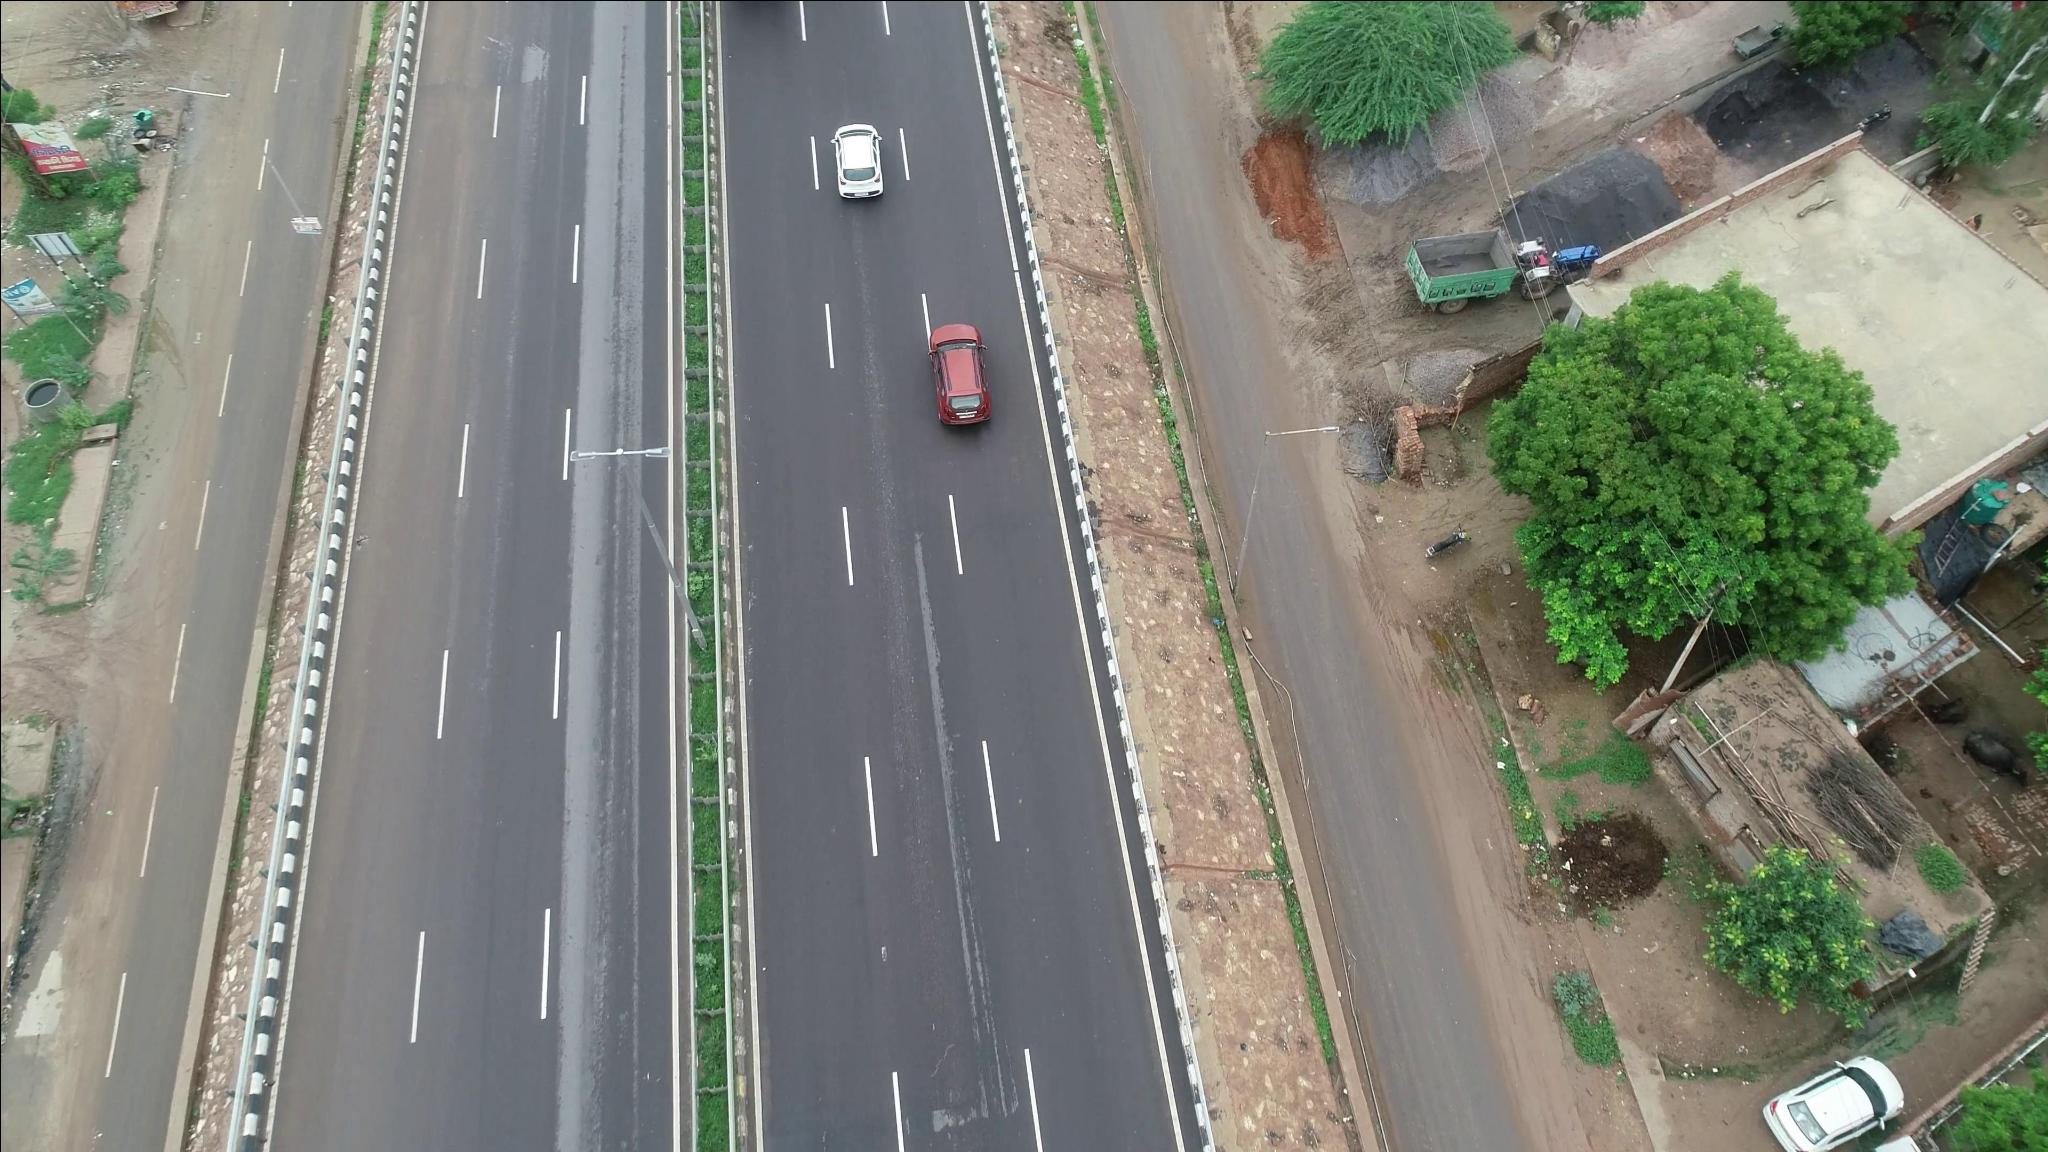Muddy_road: (103, 293, 229, 716), (376, 142, 482, 480)
